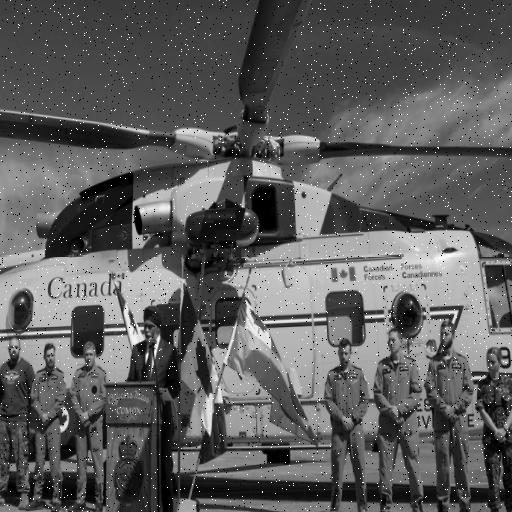helicopter: (1, 37, 512, 503)
